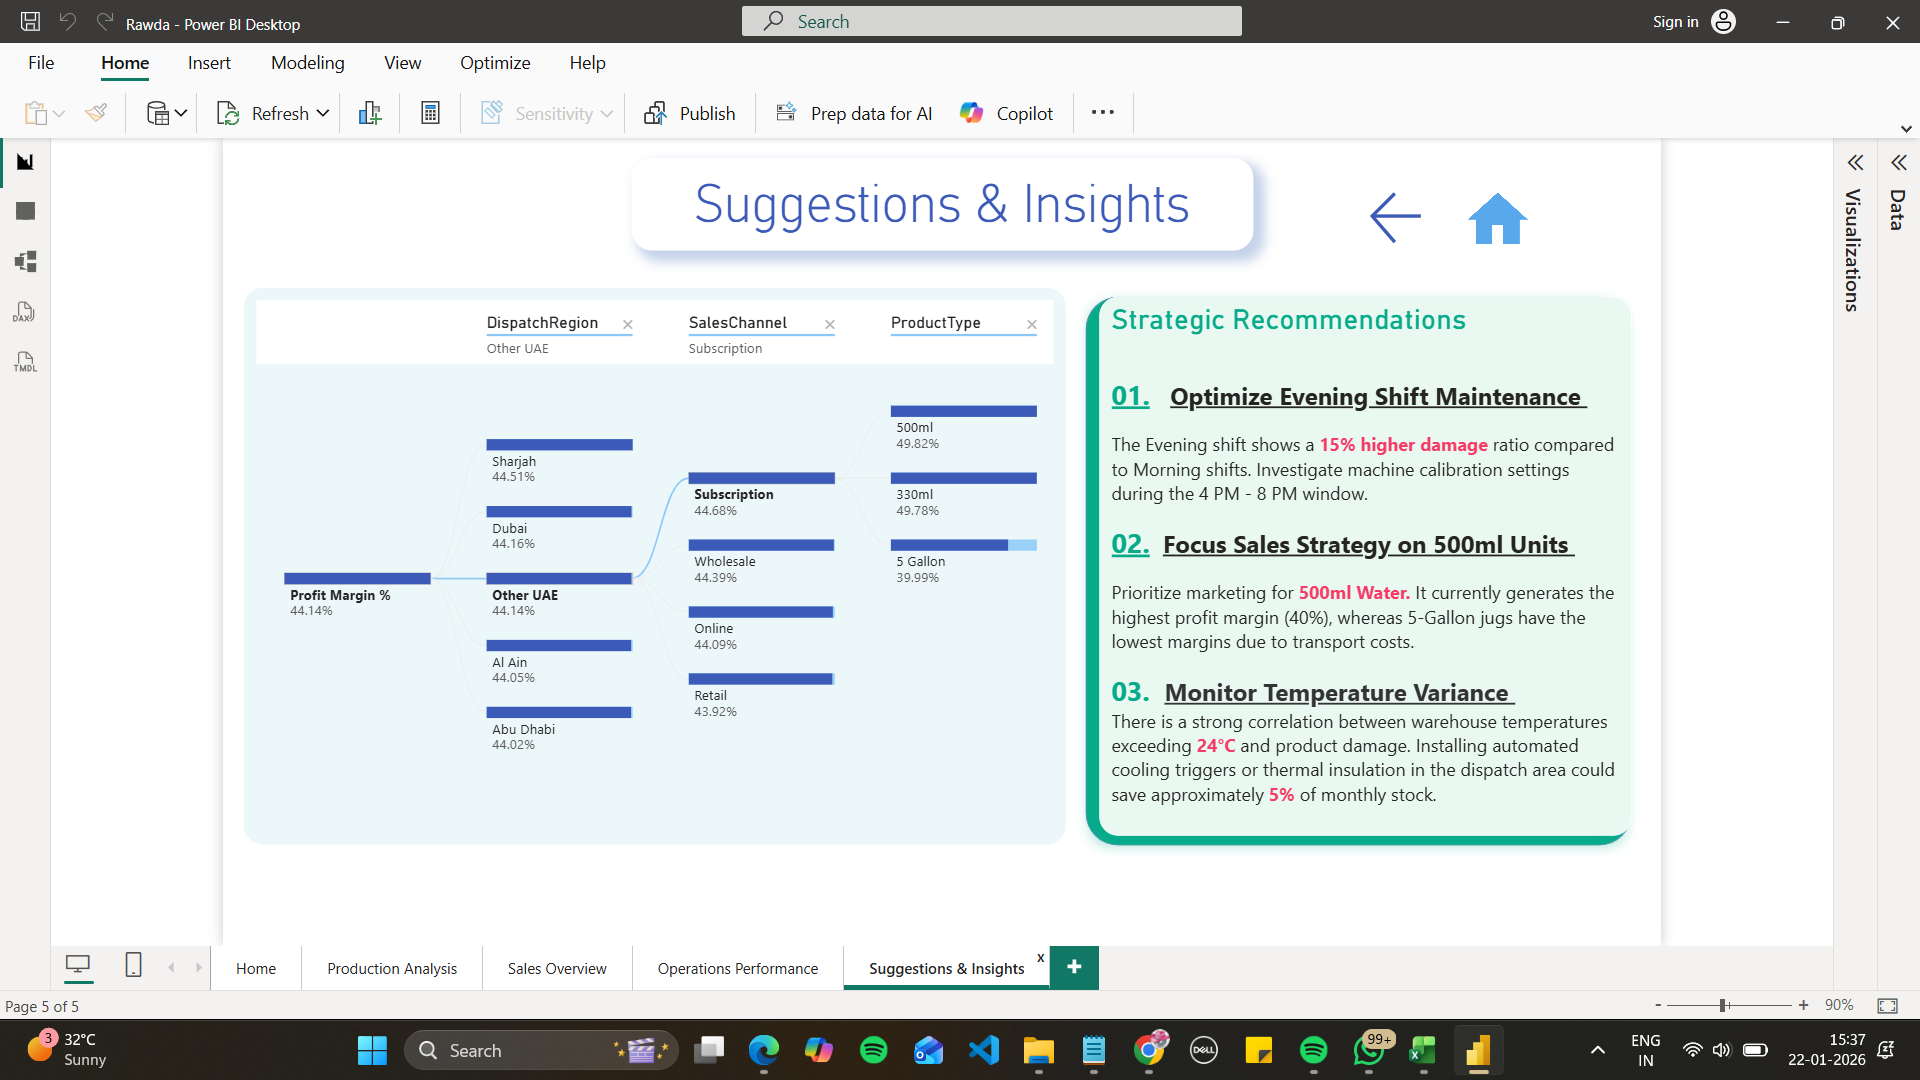

What the dashboard file says about the page in this screenshot:
{"tool":"powerbi","page":{"name":"Suggestions & Insights","canvas":[1280,720],"ordinal":4},"visuals":[{"type":"shape","box":[768.1,141.4,486.5,488.7],"z":0},{"type":"textbox","box":[363.8,17.5,553.8,82.5],"z":1000},{"type":"actionButton","box":[1016.2,42.5,81.2,57.5],"z":2000},{"type":"image","box":[1107.4,43.2,55.6,58],"z":3000},{"type":"decompositionTreeVisual","fields":{"Analyze":["Rawda_procudtion_sales.Profit Margin %"],"ExplainBy":["Rawda_procudtion_sales.DispatchRegion","Rawda_procudtion_sales.SalesChannel","Rawda_procudtion_sales.ProductType"]},"box":[17.8,132.5,733.6,497.6],"z":4000},{"type":"textbox","title":"Strategic Recommendations","box":[780.2,141.1,474.2,479.9],"z":5500}]}

Visuals, with their boxes on the page's 1280x720 design canvas (x1, y1, x2, y2). These are canvas units, not pixel positions in the 1920x1080 screenshot, which may show the page scaled, cropped or inside an application window:
shape: l=768, t=141, r=1255, b=630
textbox: l=364, t=18, r=918, b=100
actionButton: l=1016, t=42, r=1097, b=100
image: l=1107, t=43, r=1163, b=101
decompositionTreeVisual - Rawda_procudtion_sales.Profit Margin % x Rawda_procudtion_sales.DispatchRegion: l=18, t=132, r=751, b=630
"Strategic Recommendations" textbox: l=780, t=141, r=1254, b=621
